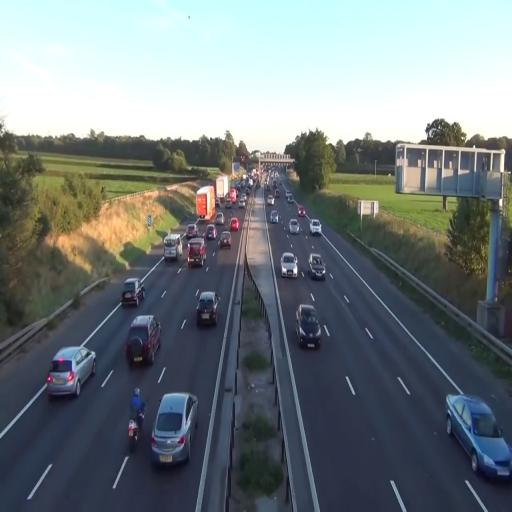vehicle: (446, 393, 512, 481), (446, 394, 511, 478), (150, 392, 199, 468), (151, 393, 198, 465), (46, 344, 97, 399), (47, 347, 96, 398), (124, 315, 162, 368), (126, 316, 161, 366), (296, 304, 321, 350), (296, 305, 321, 348), (196, 290, 220, 328), (196, 292, 219, 326), (196, 184, 216, 221), (196, 186, 215, 220), (122, 279, 145, 307), (128, 412, 144, 452), (187, 237, 206, 269), (122, 277, 142, 307), (188, 238, 206, 268), (308, 251, 326, 280), (164, 234, 182, 261), (280, 251, 298, 277), (308, 254, 325, 280), (128, 417, 142, 446), (281, 253, 297, 278), (216, 176, 228, 199), (218, 232, 232, 249), (309, 218, 321, 236), (288, 218, 300, 234), (268, 208, 280, 224), (186, 224, 198, 239), (310, 220, 321, 236), (220, 232, 231, 248), (205, 224, 216, 240), (289, 220, 299, 234), (230, 218, 239, 231), (216, 212, 224, 225), (230, 188, 237, 202), (270, 211, 278, 223), (298, 206, 305, 217), (267, 195, 274, 205), (238, 199, 245, 208), (274, 189, 280, 198), (288, 194, 294, 203), (226, 199, 231, 209), (241, 193, 247, 201), (230, 180, 236, 187), (245, 188, 250, 196), (286, 191, 291, 199), (216, 198, 220, 208), (249, 178, 253, 187), (266, 183, 270, 191), (273, 180, 277, 188), (236, 185, 240, 191), (279, 179, 282, 184)
